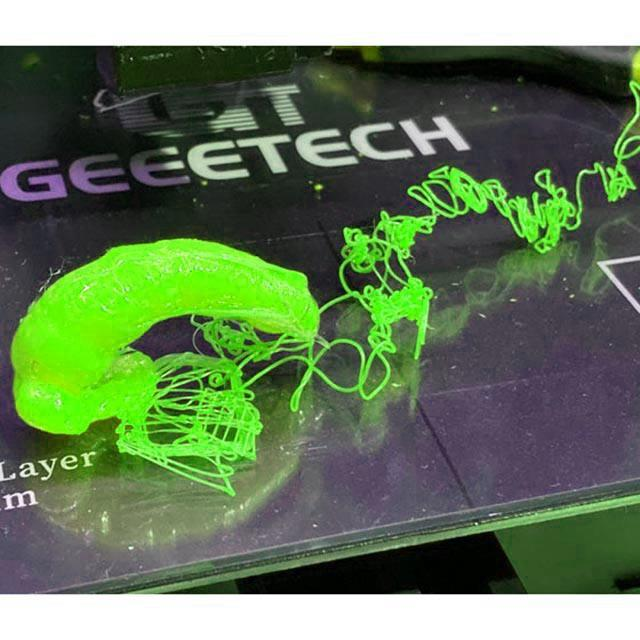Spaghetti: (339, 78, 639, 360), (110, 315, 395, 499)
